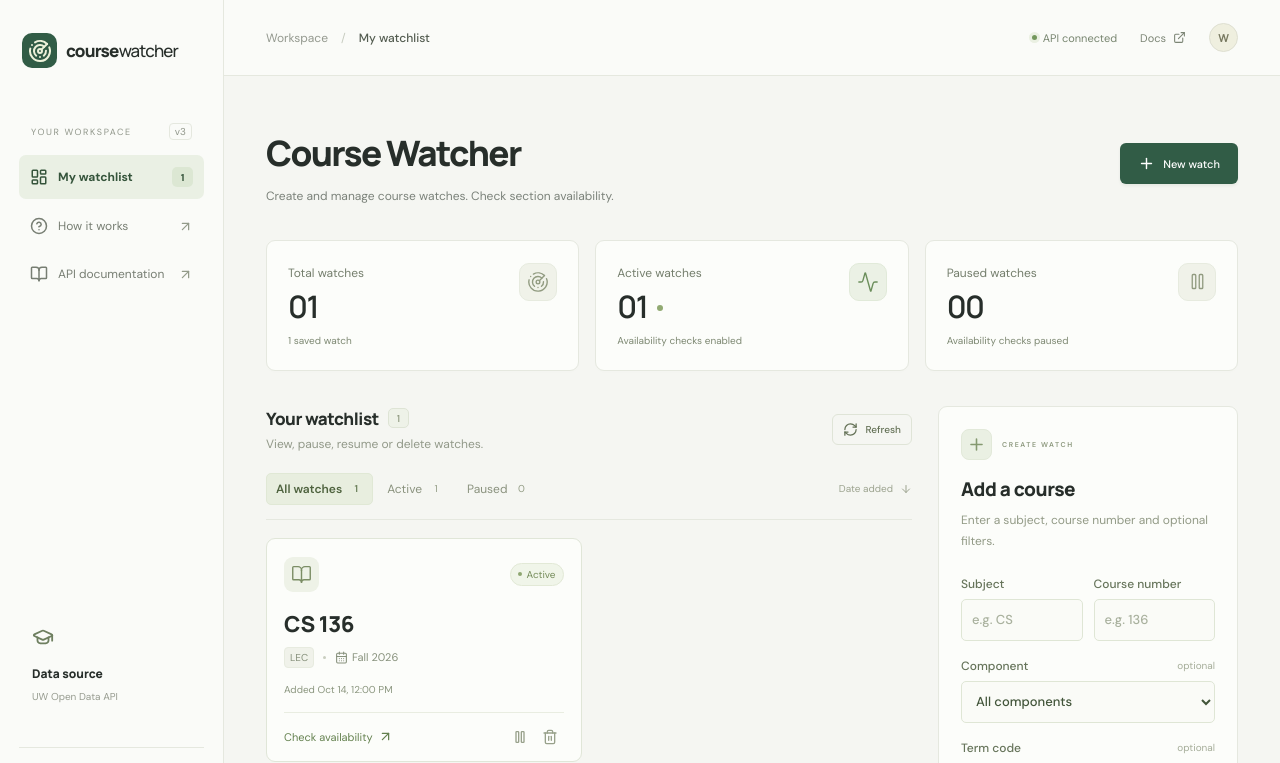
Test: watch dashboard › pauses and resumes a watch with confirmed server data
This screenshot has width=1280, height=763.
Click the button named "Pause CS 136" at (520, 737), box [506, 723, 534, 750]
(page scrolled)
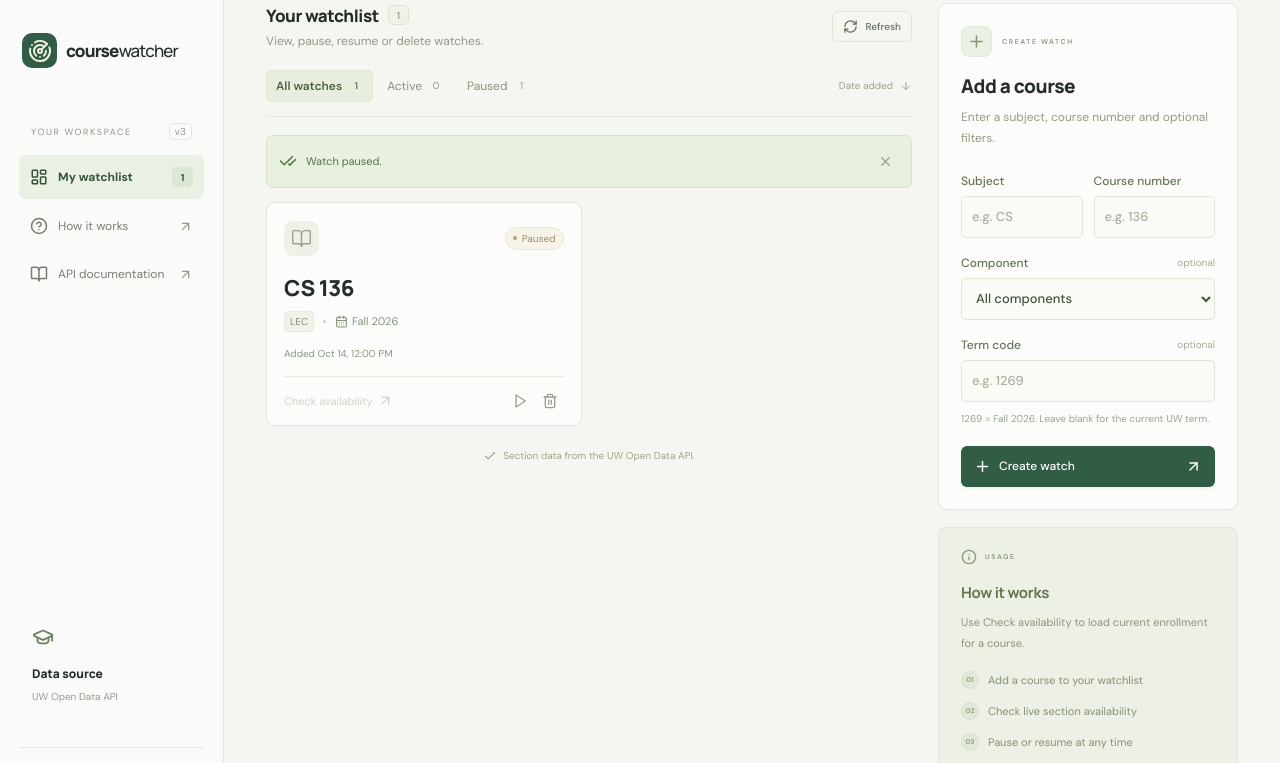
Result: the button named "Resume CS 136" is shown
Click the button named "Resume CS 136" at (520, 401), box [506, 387, 534, 414]
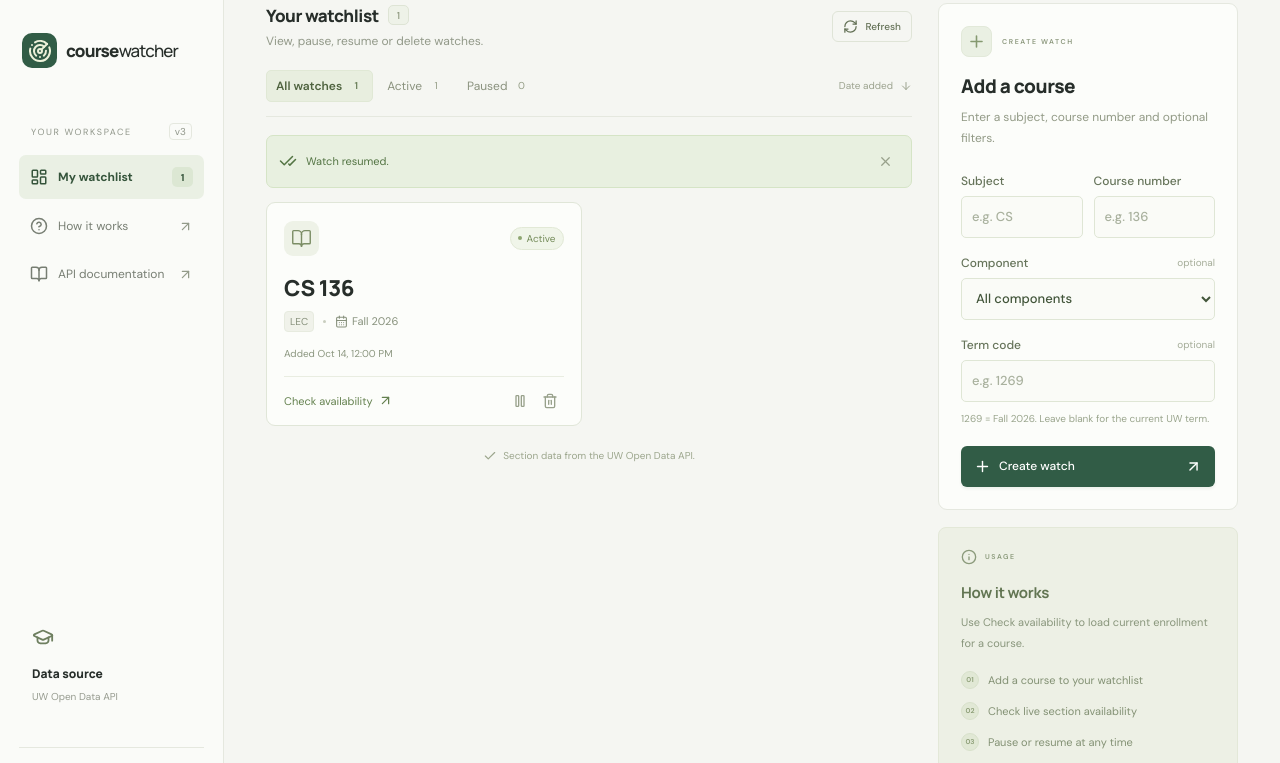
Result: the button named "Pause CS 136" is shown at [506, 387, 534, 414]
